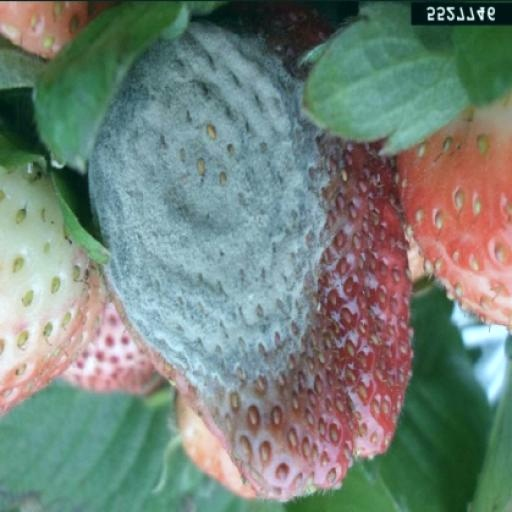Gray Mold: (86, 11, 416, 505)
